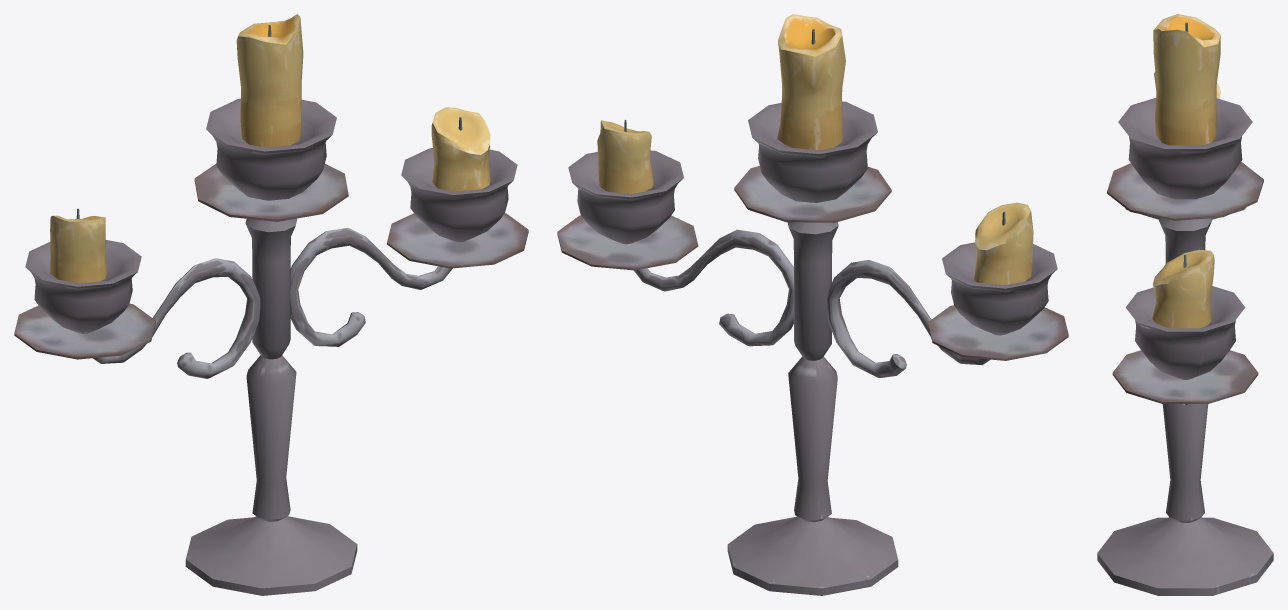
File: CandleStick_Triple.gltf
3 views of the same model, side by side, from view 1: azimuth 30°, elevation 25°; view 2: azimuth 150°, elevation 25°; view 3: azimuth 270°, elevation 25° (orthographic).
Parts seen in each view (by area): view 1: CandleStick_Triple; view 2: CandleStick_Triple; view 3: CandleStick_Triple.
Boxes of the visible parts, x1,y1,x2,y2 form: CandleStick_Triple: (14,14,528,595); CandleStick_Triple: (557,14,1068,595); CandleStick_Triple: (1097,14,1273,595).
Size of the model in its own units: 0.4423 by 0.4633 by 0.1364.
2 materials, 2 textured.
